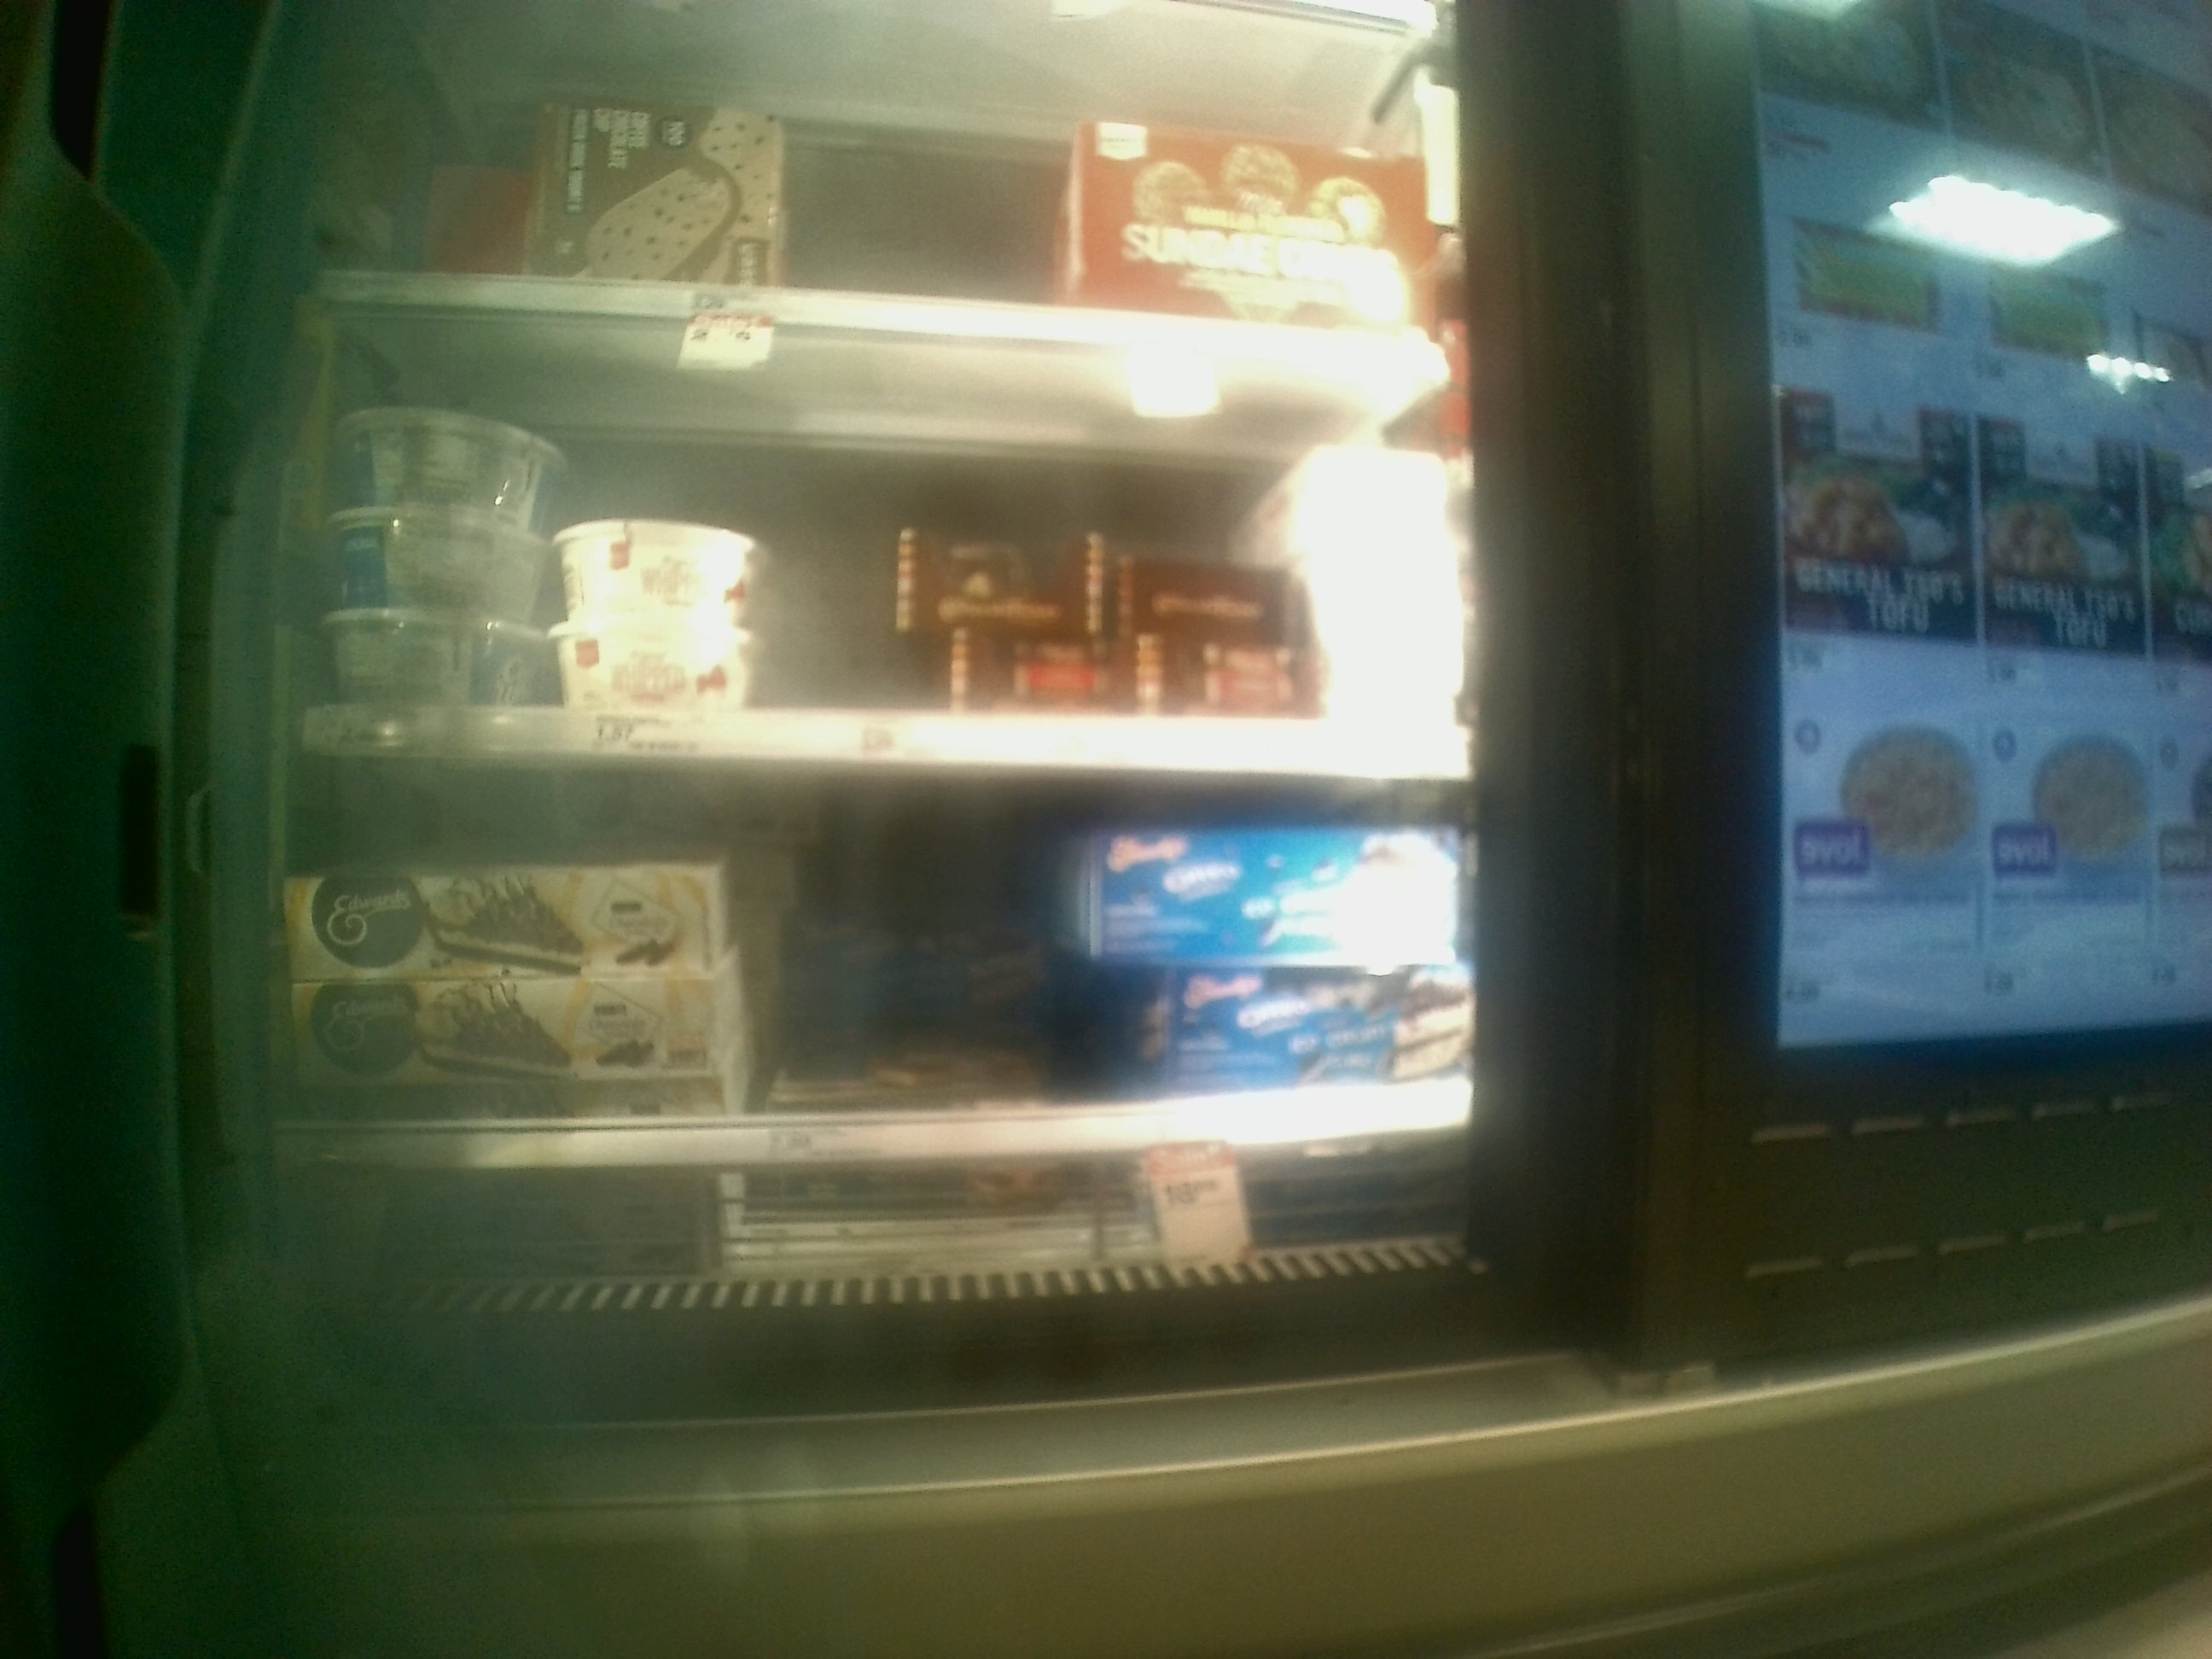frozen-food-shelf: (256, 767, 1508, 1173)
